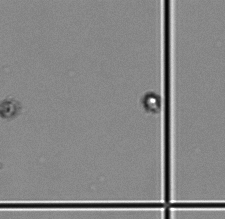Dead Cell: (1, 101, 18, 120)
Living Cell: (141, 90, 162, 113)
